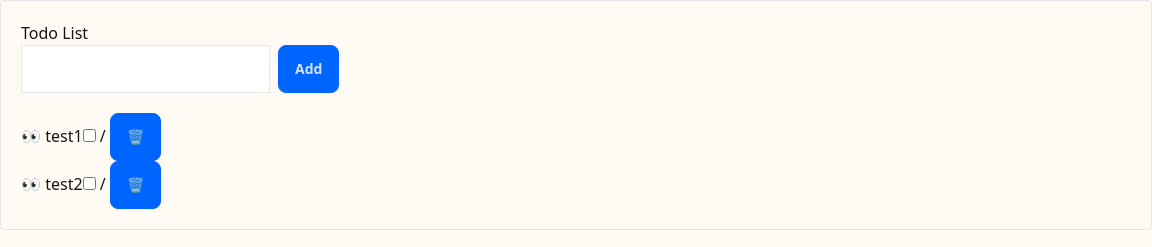
Test case: delete todo item correctly
expect the number of list items is 2: met, box [21,113,161,161]; [21,161,161,209]
Step 1. Click the button "🗑️" next to "test1" → (135, 137), box [110,113,161,161]
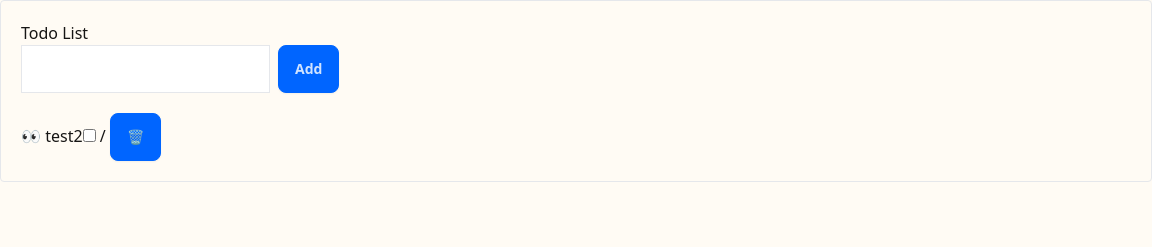
expect the number of list items is 1: met, box [21,113,161,161]
